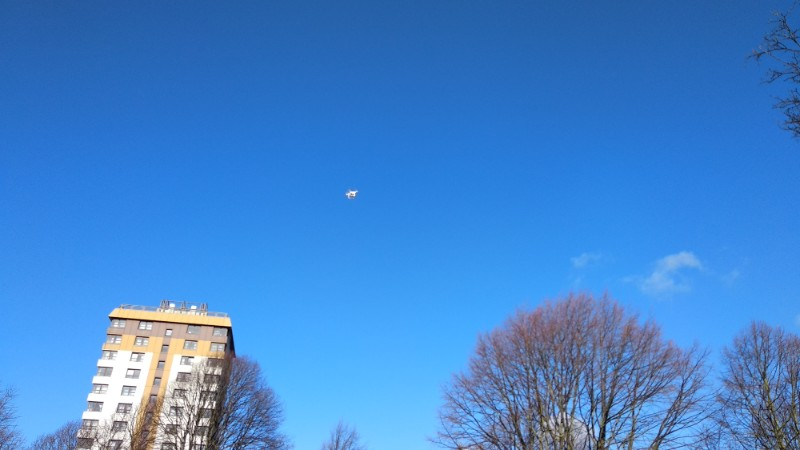drone: (343, 189, 360, 200)
